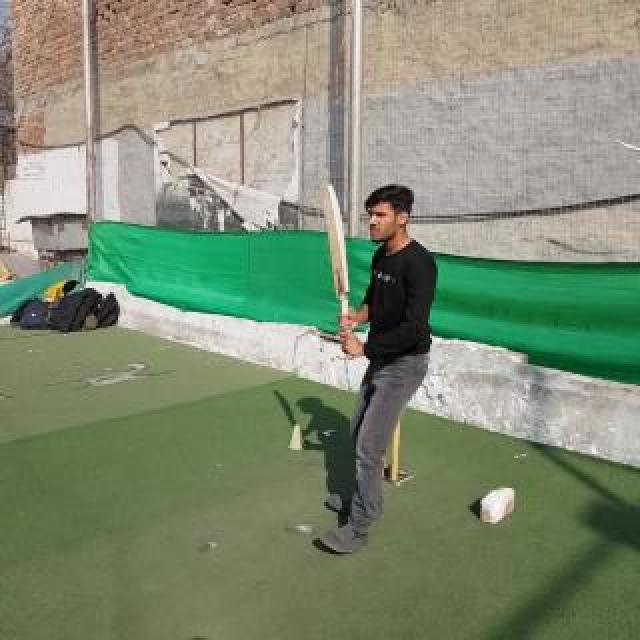bat: (320, 185, 356, 359)
